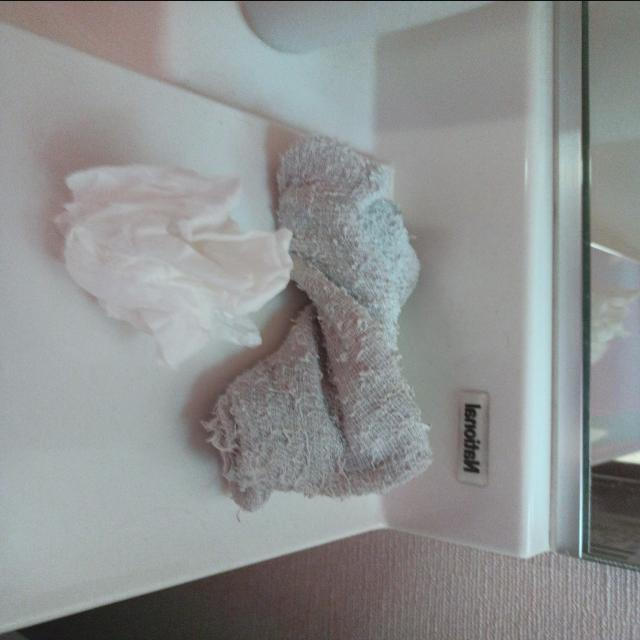Paper: (56, 163, 282, 348)
